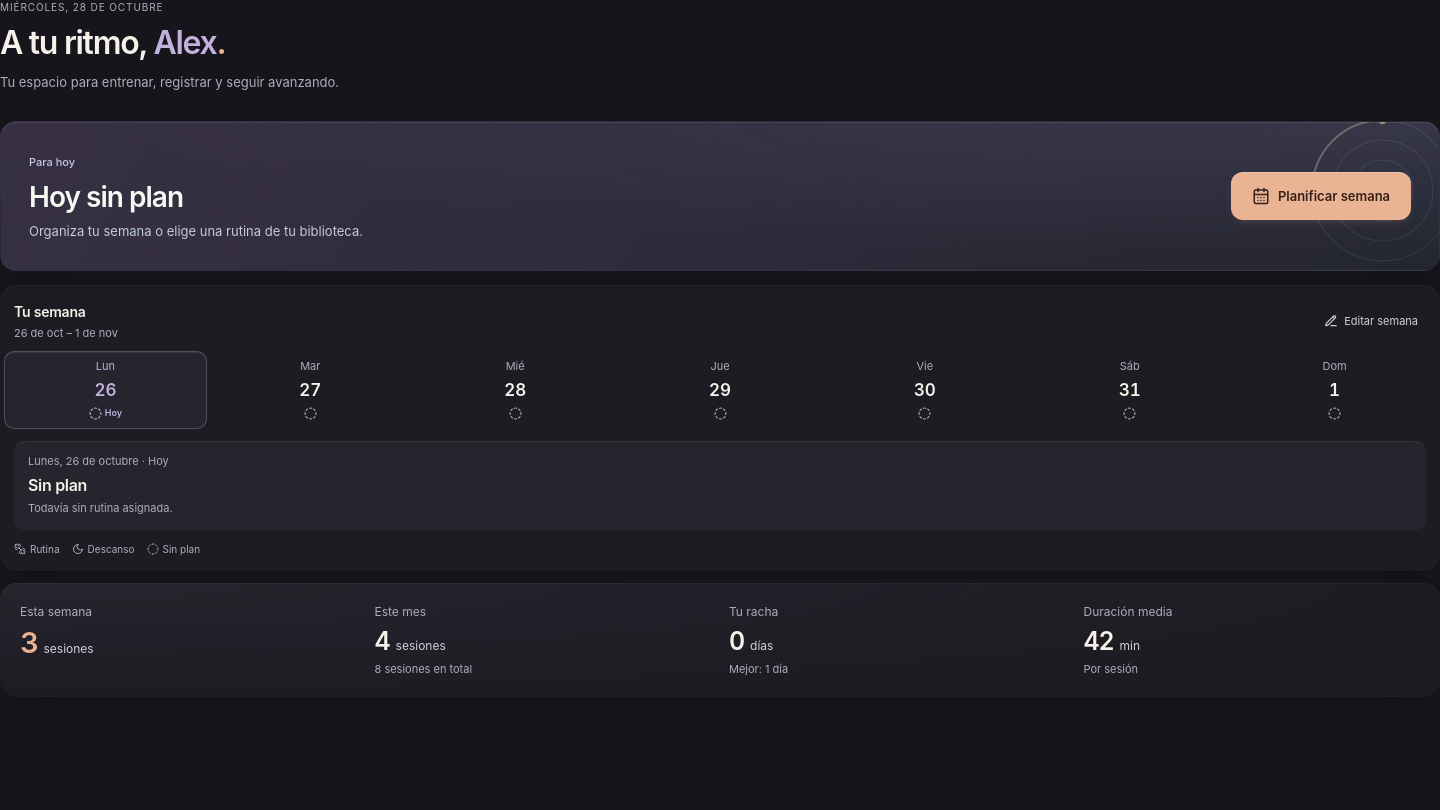
dashboard training priority › offers planning when the library is empty
Click the button "Planificar semana" at (1321, 196), box [1231, 172, 1411, 220]
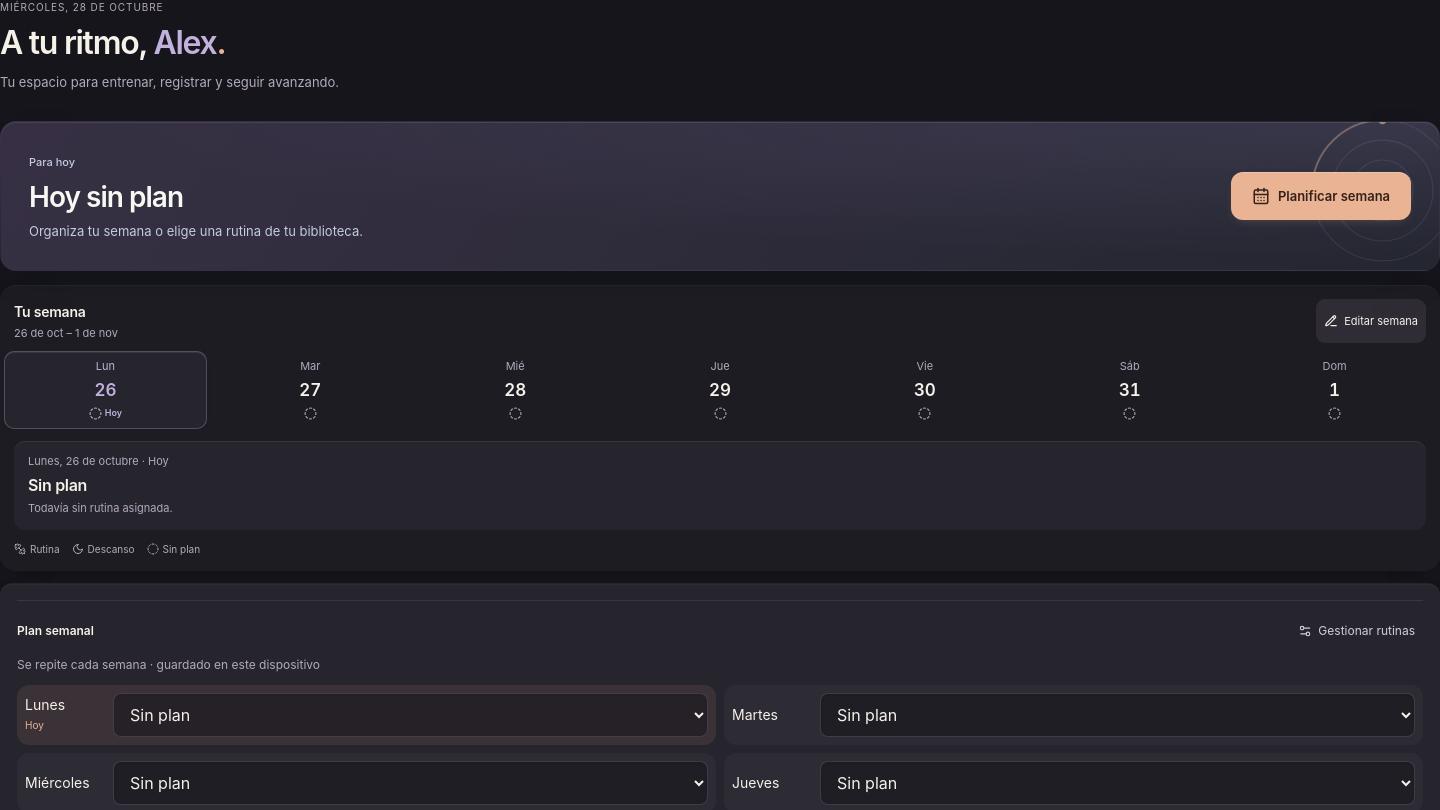
Expected: the number of dropdowns is 7
